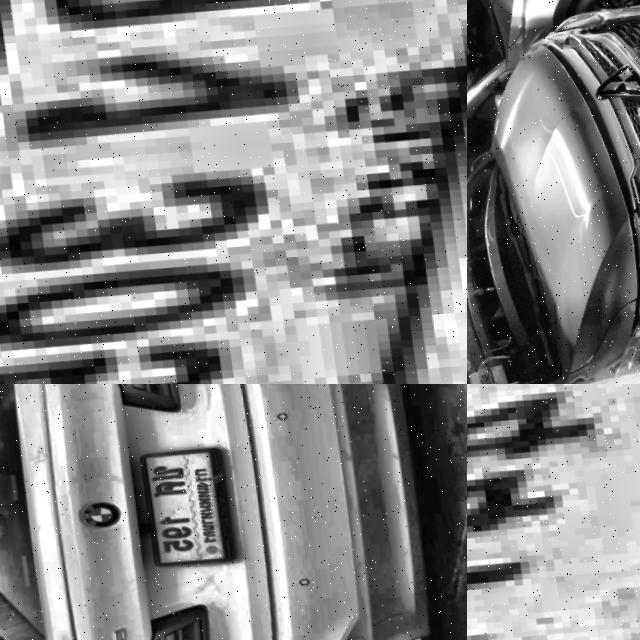license-plate: (0, 0, 467, 384), (467, 384, 640, 640), (131, 446, 234, 570)
